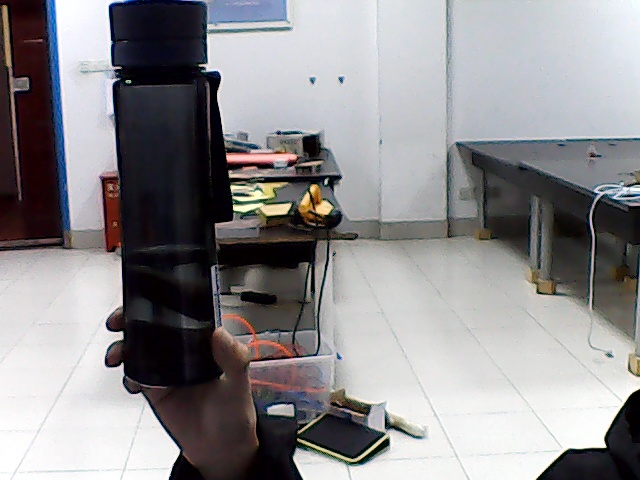cup: (117, 3, 217, 388)
